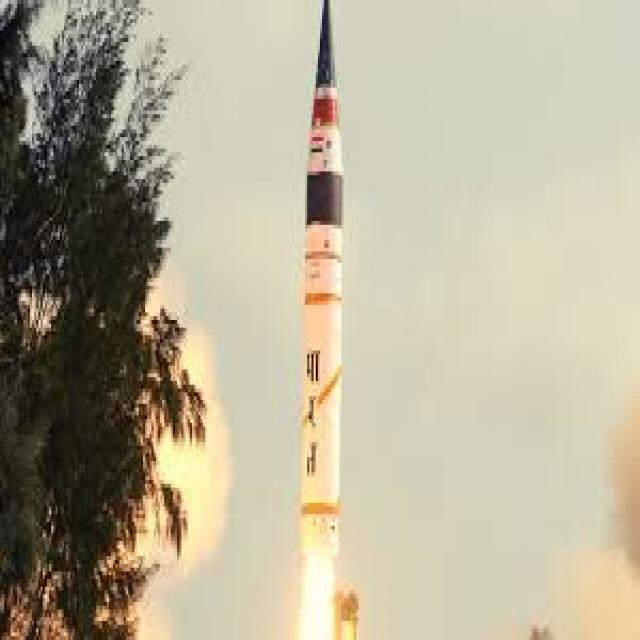missile: (292, 0, 348, 564)
